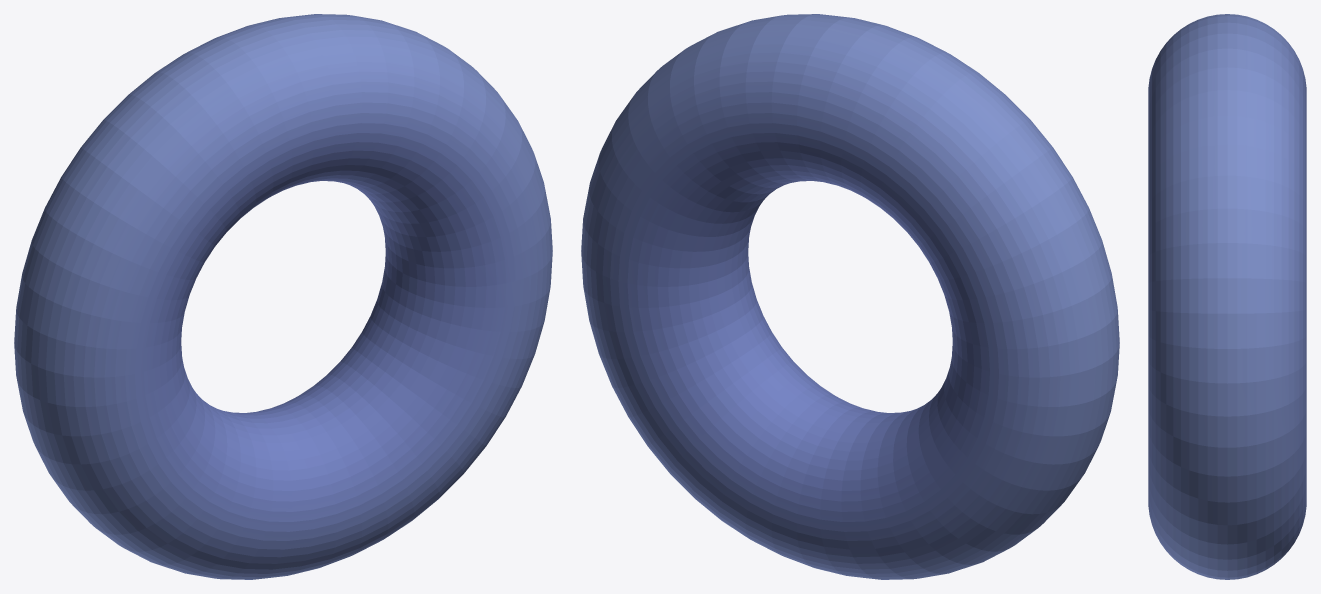
3 views of the same model, side by side, from view 1: azimuth 30°, elevation 25°; view 2: azimuth 150°, elevation 25°; view 3: azimuth 270°, elevation 25° (orthographic). The views are drawn at different scales.
Visible parts, largest first — view 1: world; view 2: world; view 3: world.
Part boxes in pixels (left/top/right/bottom): world: left=14, top=14, right=552, bottom=579; world: left=581, top=14, right=1119, bottom=579; world: left=1148, top=14, right=1306, bottom=579.
Bounding box in the file's own units: 17.6 × 17.57 × 4.92.
